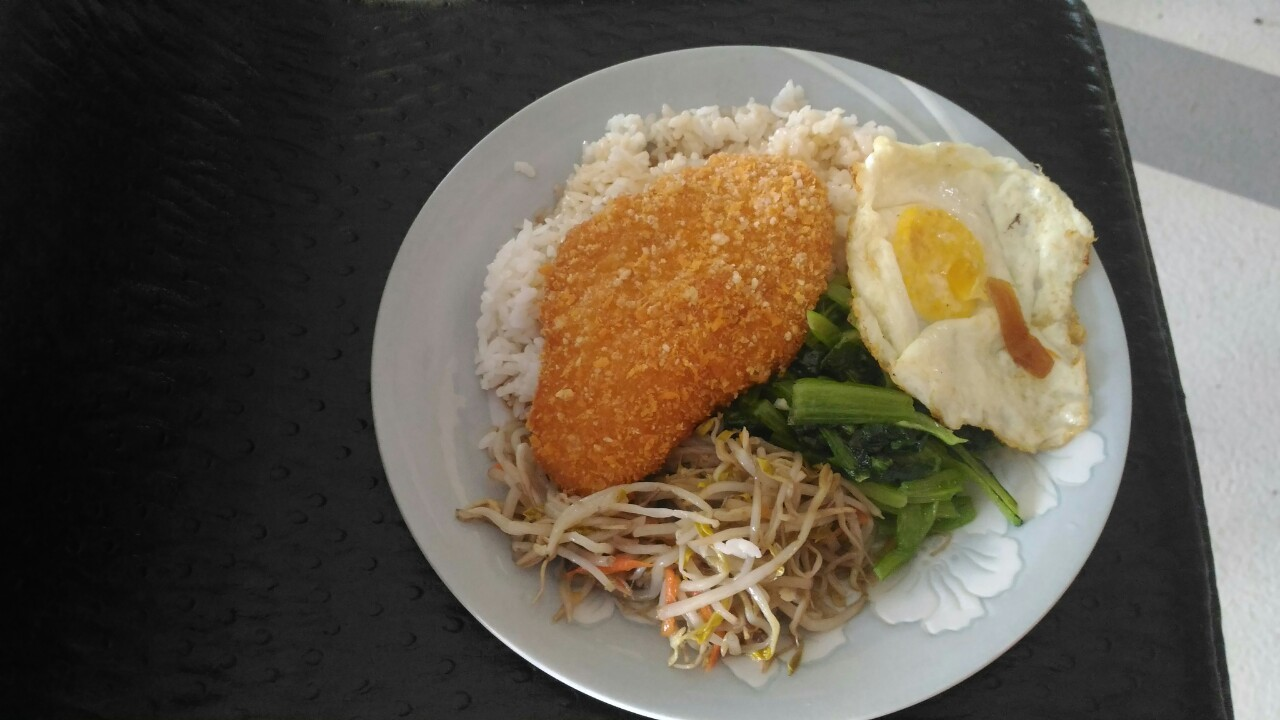fried_chicken: (516, 146, 840, 496)
fried_eggs: (844, 134, 1095, 448)
mung_bean_sprouts: (557, 479, 862, 624)
rice: (586, 95, 879, 176)
water_spinach: (753, 343, 981, 535)
